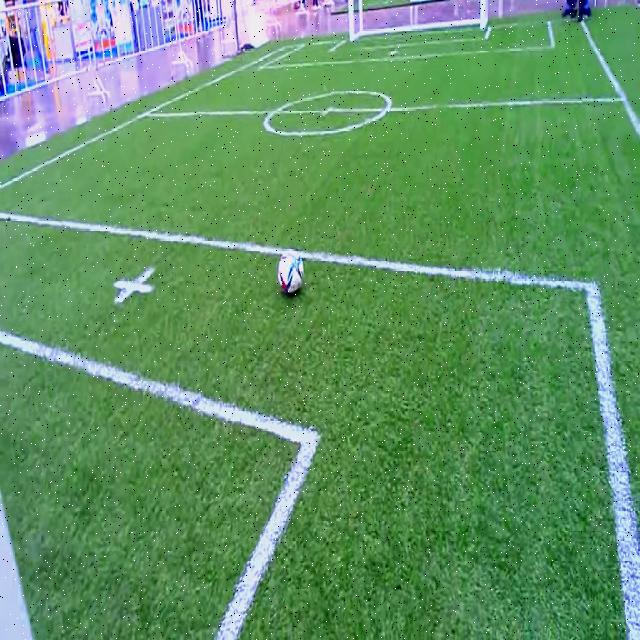ball: (279, 249, 303, 294)
